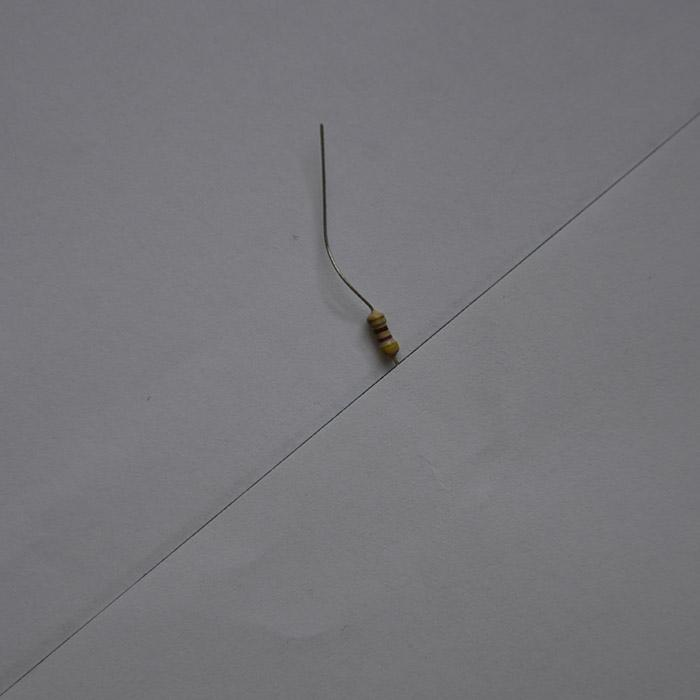resistor: (367, 309, 398, 358)
